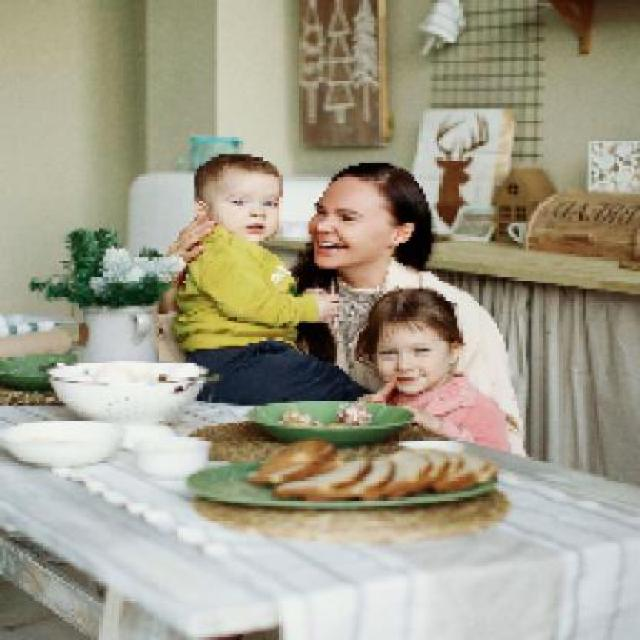child: (175, 152, 372, 405)
